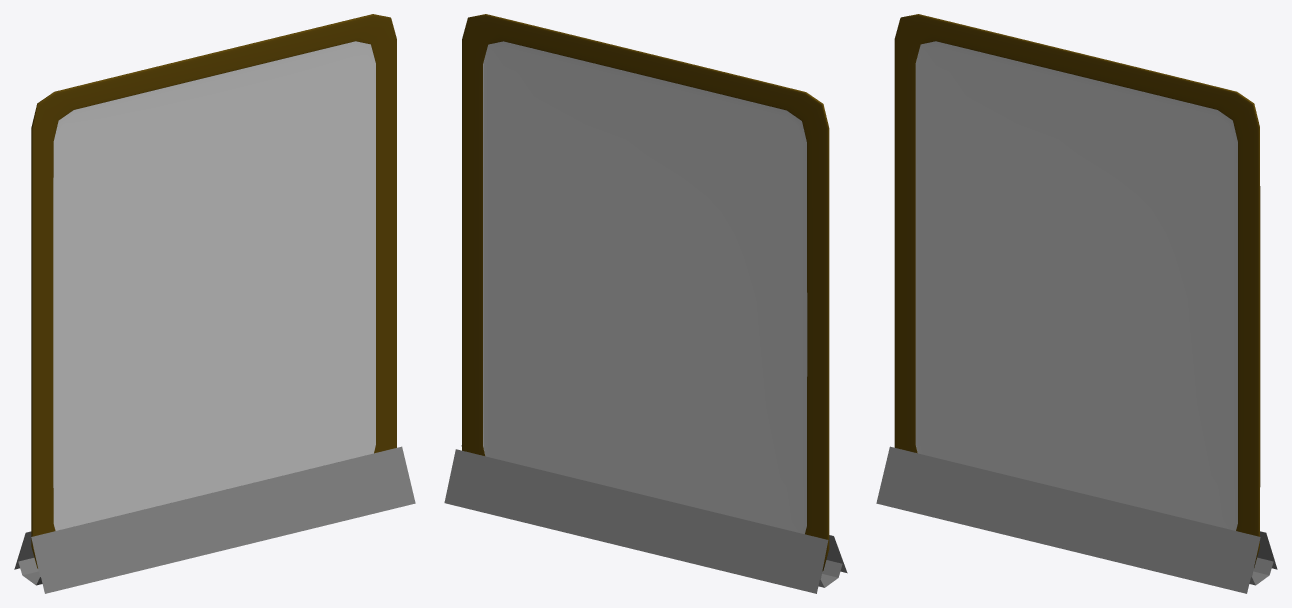
Rendered from food_menu.fbx.
3 renders of one model, left to right at view 1: azimuth 30°, elevation 25°; view 2: azimuth 150°, elevation 25°; view 3: azimuth 330°, elevation 25°, orthographic.
Parts seen in each view (by area): view 1: pCube3; view 2: pCube3; view 3: pCube3.
Part boxes in pixels (x1=…): pCube3: x1=14, y1=14, x2=415, y2=593; pCube3: x1=444, y1=14, x2=847, y2=593; pCube3: x1=876, y1=14, x2=1277, y2=593.
Bounding box in the file's own units: 1.05 × 1.31 × 0.1504.
